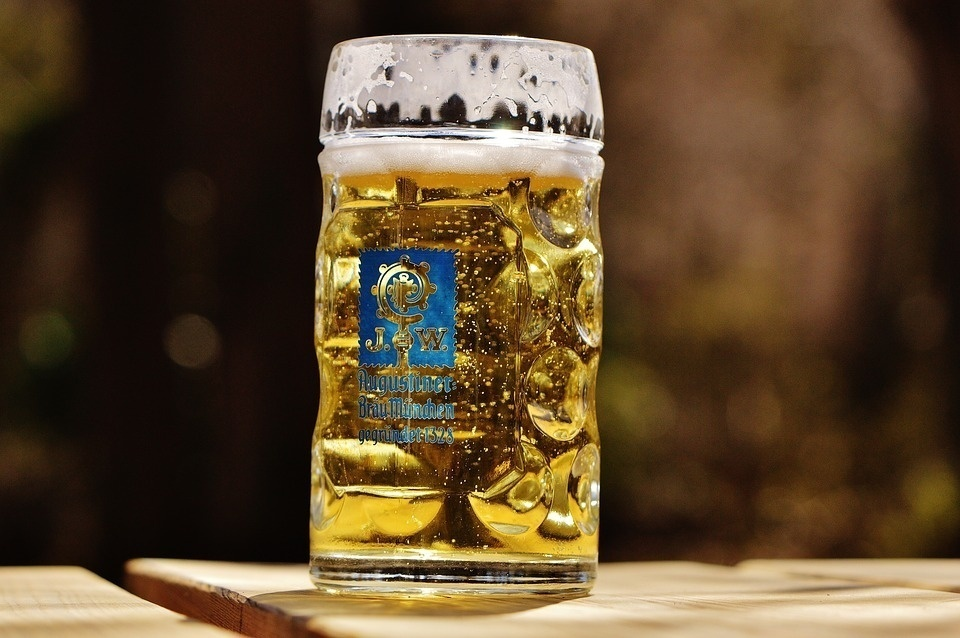whiskey: (315, 39, 614, 575)
